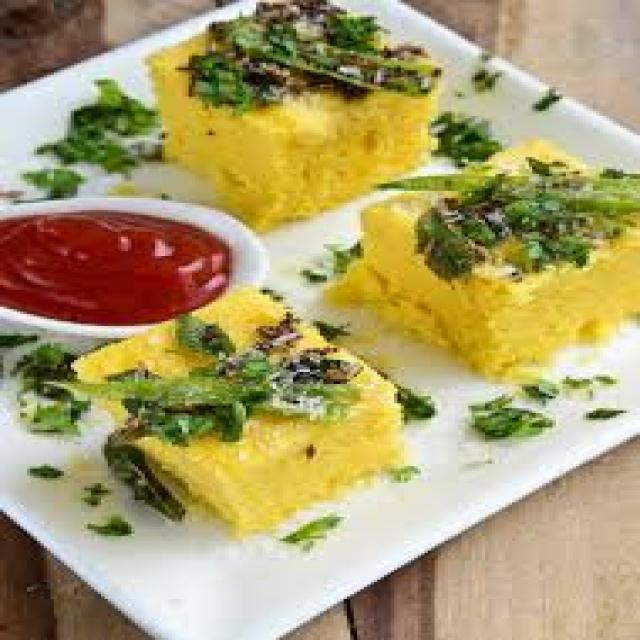DHOKLA: (84, 279, 396, 533), (358, 138, 637, 375), (168, 0, 441, 230)
